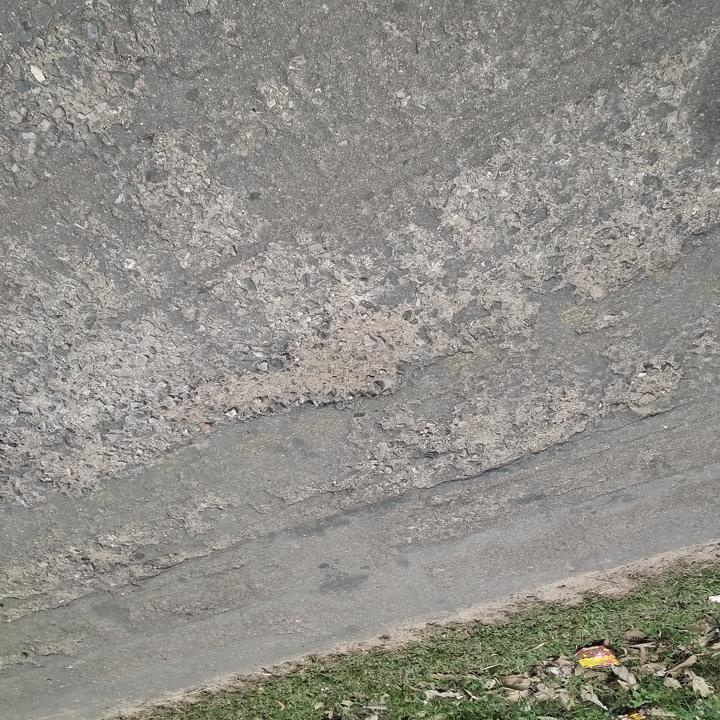pothole: (183, 316, 424, 424), (396, 394, 598, 489), (618, 353, 684, 418)
